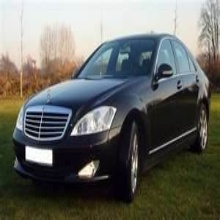no damage: (12, 33, 211, 203)
